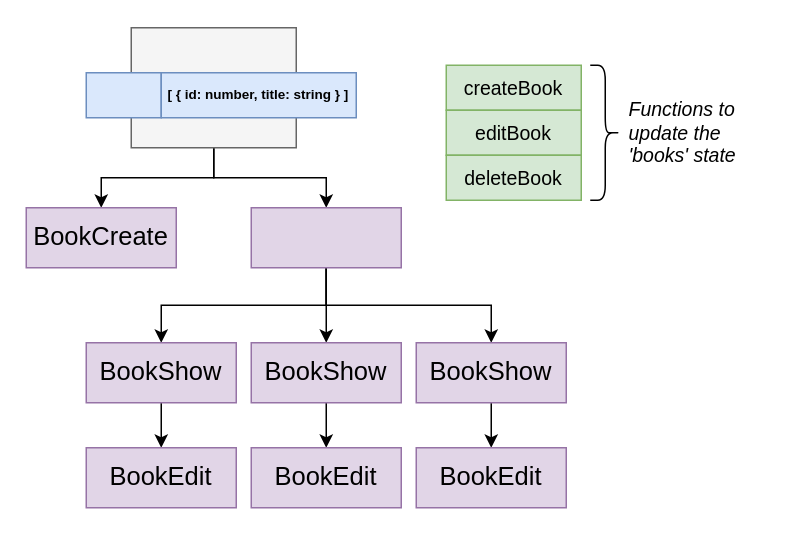
The diagram is 803 pixels wide and 534 high, and some of its shapes have lost their labels. The box of each missing label's shape, as (x1, y1, x2, y2) in pixels:
App: (130, 26, 296, 148)
BookList: (250, 206, 401, 268)
books: (85, 71, 161, 118)
